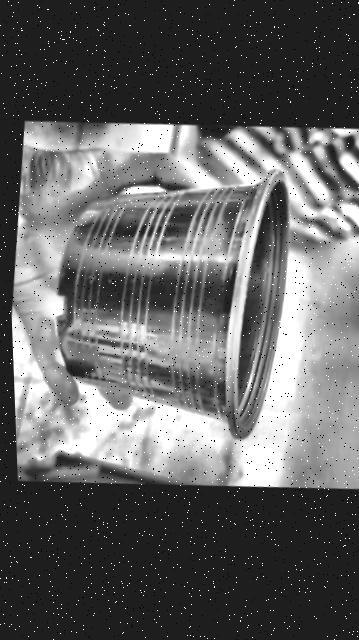pot: (56, 170, 288, 438)
